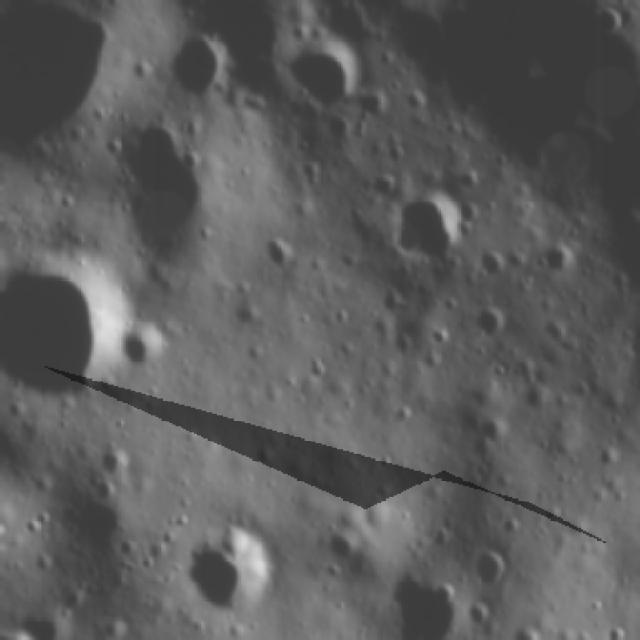crater: (0, 0, 143, 165), (113, 104, 224, 290), (0, 264, 126, 407), (164, 514, 281, 617), (390, 184, 481, 271), (153, 18, 238, 107), (274, 34, 363, 117), (62, 480, 138, 555), (382, 571, 464, 640), (119, 318, 172, 379), (468, 538, 518, 596), (530, 236, 585, 278), (258, 228, 302, 280), (86, 441, 134, 487), (462, 297, 510, 340), (14, 606, 72, 640), (352, 83, 388, 126), (324, 524, 358, 568), (476, 418, 515, 454), (475, 241, 507, 284), (518, 377, 554, 415), (620, 308, 640, 372), (95, 609, 133, 640), (504, 618, 539, 640), (629, 386, 640, 440), (0, 517, 9, 545)
